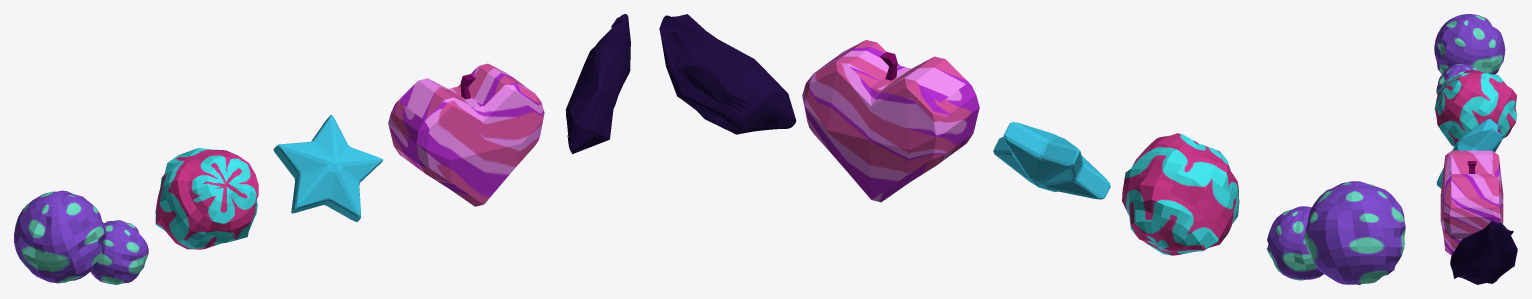
The model's file is Frutas de Bosque Cósmico.glb.
3 views of the same model, side by side, from view 1: azimuth 30°, elevation 25°; view 2: azimuth 150°, elevation 25°; view 3: azimuth 270°, elevation 25° (orthographic). The views are drawn at different scales.
Visible parts, largest first — view 1: Fruta Cósmica, Baya Alien, Nube Brillante, Estrella dulce, Banana; view 2: Fruta Cósmica, Baya Alien, Nube Brillante, Banana, Estrella dulce; view 3: Fruta Cósmica, Nube Brillante, Baya Alien, Banana, Estrella dulce.
Boxes of the visible parts, x1,y1,x2,y2 form: Fruta Cósmica: (388, 63, 544, 206); Baya Alien: (14, 190, 148, 284); Nube Brillante: (155, 148, 258, 249); Estrella dulce: (273, 115, 382, 222); Banana: (565, 14, 630, 154); Fruta Cósmica: (802, 40, 979, 202); Baya Alien: (1267, 181, 1405, 284); Nube Brillante: (1122, 133, 1239, 255); Banana: (659, 14, 796, 134); Estrella dulce: (993, 122, 1110, 199); Fruta Cósmica: (1440, 150, 1503, 255); Nube Brillante: (1434, 70, 1516, 146); Baya Alien: (1434, 14, 1505, 95); Banana: (1450, 221, 1517, 284); Estrella dulce: (1436, 119, 1502, 188).
Size of the model in its own units: 13.17 by 2.5 by 1.93.
6 materials, 3 textured.
